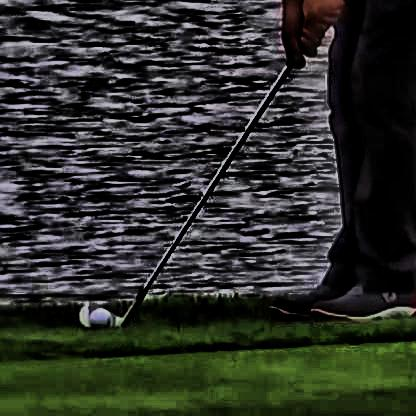golfball: (84, 308, 114, 330)
